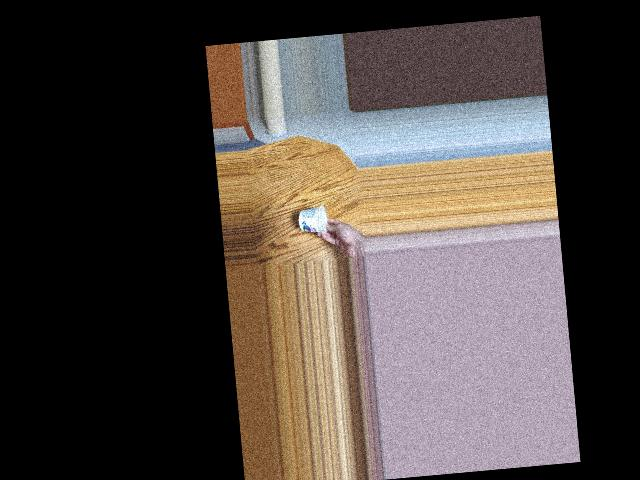cotage: (299, 200, 334, 238)
